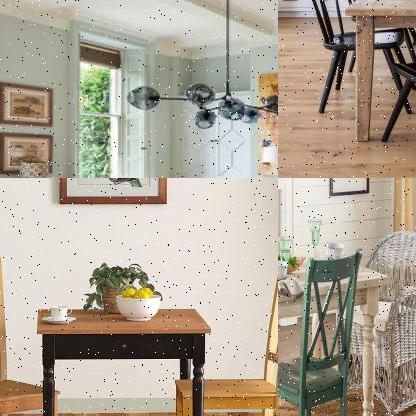table: (31, 300, 221, 415), (278, 236, 391, 415), (338, 0, 415, 149)
